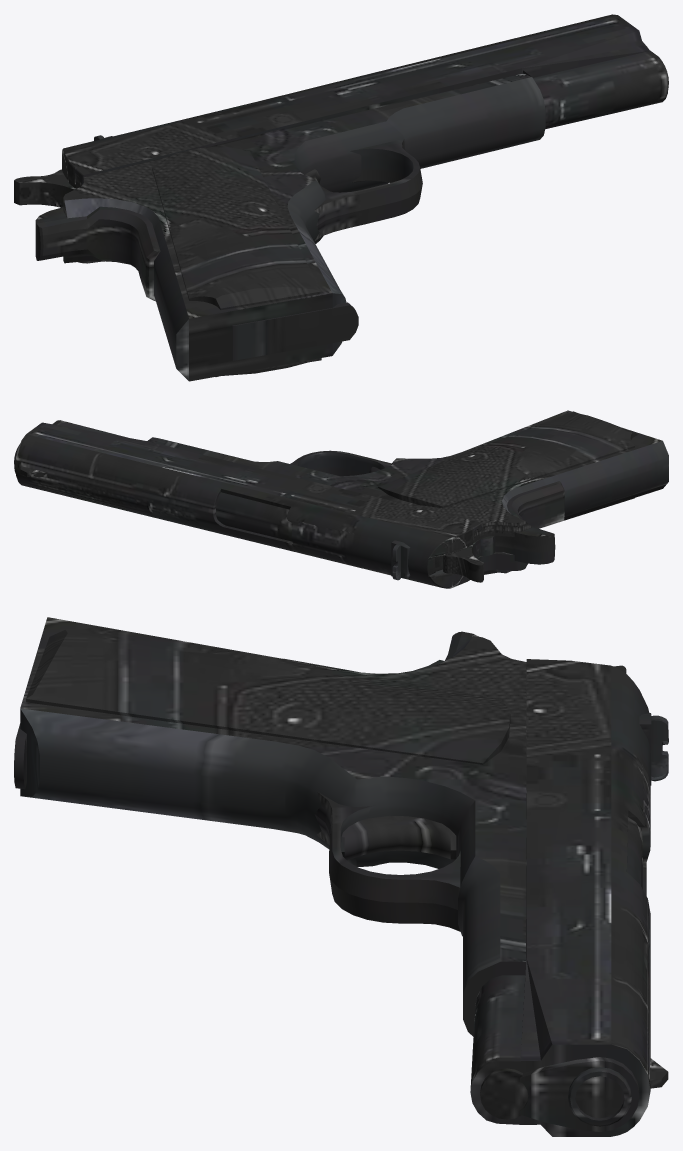
Rendered from t5_weapon_1911_lh_viewmodel.glb.
3 renders of one model, top to bottom at view 1: azimuth 30°, elevation 25°; view 2: azimuth 150°, elevation 25°; view 3: azimuth 270°, elevation 25°, orthographic. The views are drawn at different scales.
Parts seen in each view (by area): view 1: t5_weapon_1911_lh_viewmodel; view 2: t5_weapon_1911_lh_viewmodel; view 3: t5_weapon_1911_lh_viewmodel.
Boxes of the visible parts, <box> form: t5_weapon_1911_lh_viewmodel: <box>14,14,668,381</box>; t5_weapon_1911_lh_viewmodel: <box>14,410,668,588</box>; t5_weapon_1911_lh_viewmodel: <box>14,617,668,1136</box>.
Size of the model in its own units: 0.2293 by 0.0312 by 0.1431.
1 material, 1 textured.
